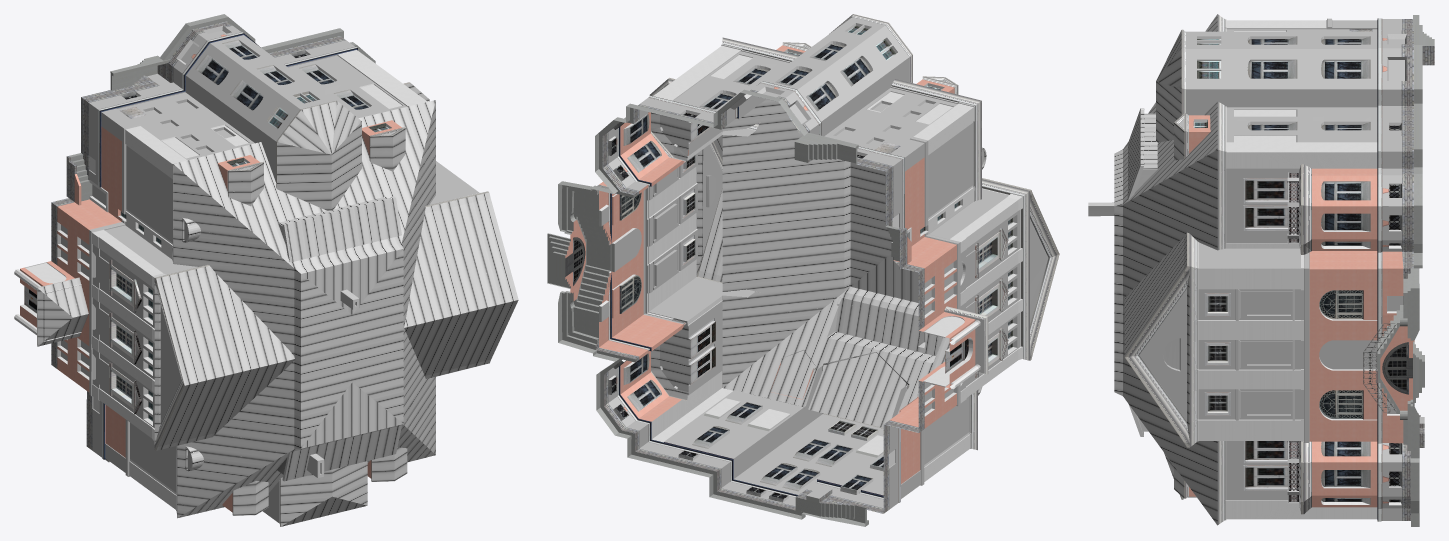
Rendered from Aia_12_1.obj.
The picture shows the model from 3 angles, left to right: view 1: azimuth 30°, elevation 25°; view 2: azimuth 150°, elevation 25°; view 3: azimuth 270°, elevation 25°; orthographic projection. The views are drawn at different scales.
Parts seen in each view (by area): view 1: Aia_12_1; view 2: Aia_12_1; view 3: Aia_12_1.
Part boxes in pixels (box(x1,y1,x2,y2)): Aia_12_1: box(14, 14, 518, 526); Aia_12_1: box(547, 14, 1059, 526); Aia_12_1: box(1088, 14, 1434, 526).
Size of the model in its own units: 31.7 by 30.35 by 21.48.
